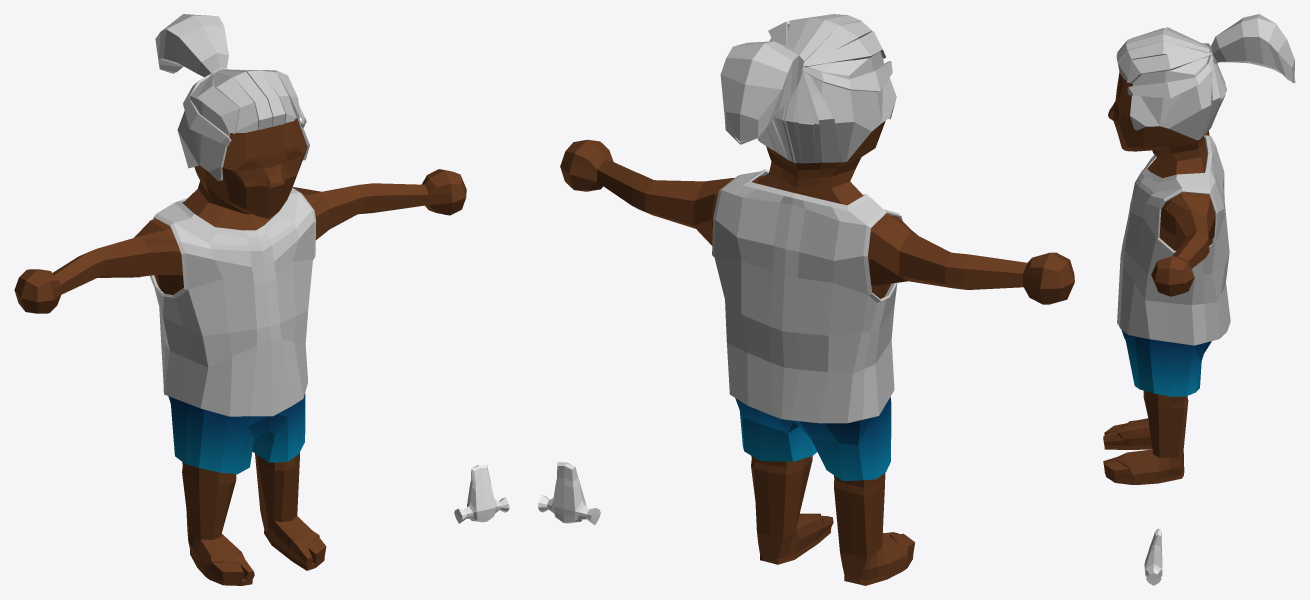
File: PP_Princ__Final (1).fbx
3 renders of one model, left to right at view 1: azimuth 30°, elevation 25°; view 2: azimuth 150°, elevation 25°; view 3: azimuth 270°, elevation 25°, orthographic. The views are drawn at different scales.
Visible parts, largest first — view 1: corpo, apito; view 2: corpo, apito; view 3: corpo, apito.
Boxes of the visible parts, box(x1,y1,x2,y2) form: corpo: box(14, 14, 466, 585); apito: box(454, 464, 509, 523); corpo: box(560, 14, 1074, 585); apito: box(538, 462, 600, 524); corpo: box(1103, 14, 1295, 484); apito: box(1144, 528, 1162, 585).
Bounding box in the file's own units: 1323 × 1380 × 522.
